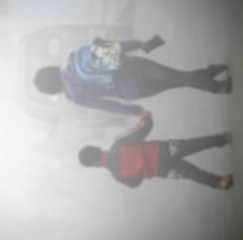person: (33, 33, 237, 114), (75, 115, 235, 194)
